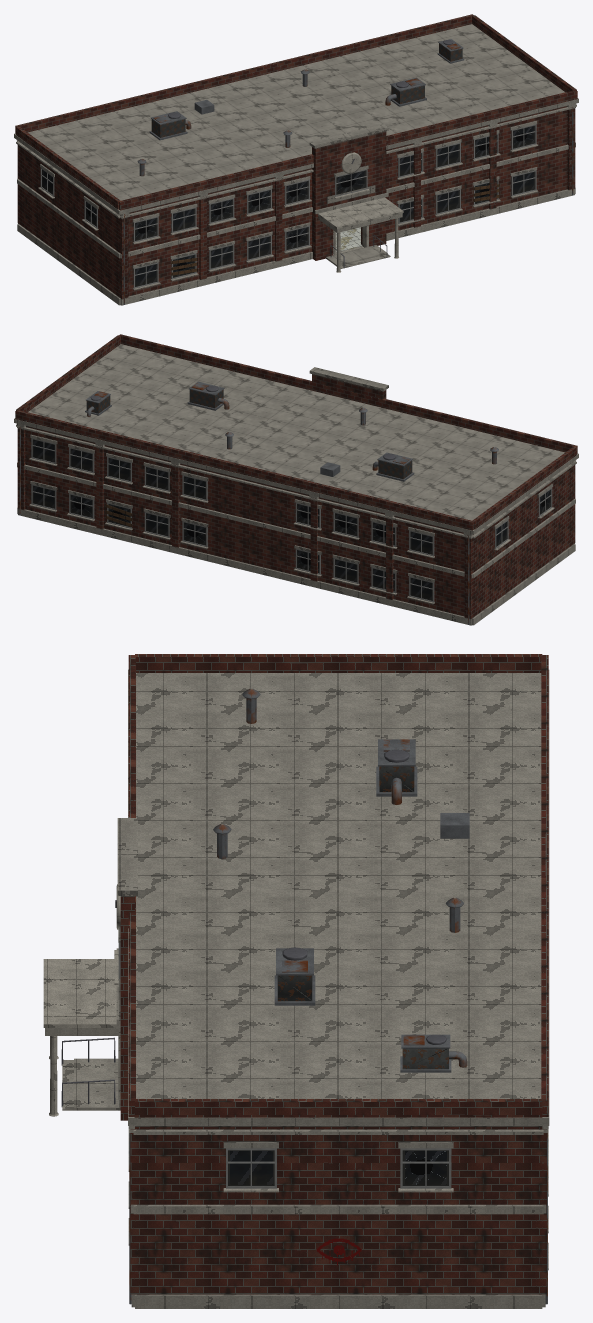
Rendered from school.glb.
The picture shows the model from 3 angles, top to bottom: view 1: azimuth 30°, elevation 25°; view 2: azimuth 150°, elevation 25°; view 3: azimuth 270°, elevation 25°; orthographic projection. The views are drawn at different scales.
Parts seen in each view (by area): view 1: shell-col, detail; view 2: shell-col, detail; view 3: shell-col, detail.
Part boxes in pixels (box(x1,y1,x2,y2)): shell-col: box(14, 14, 578, 297); detail: box(16, 39, 576, 305); shell-col: box(14, 334, 578, 617); detail: box(16, 367, 576, 625); shell-col: box(45, 654, 549, 1294); detail: box(43, 689, 548, 1308).
Bounding box in the file's own units: 36.5 × 8.98 × 17.4.
Materials: 19 (19 with a texture image).
